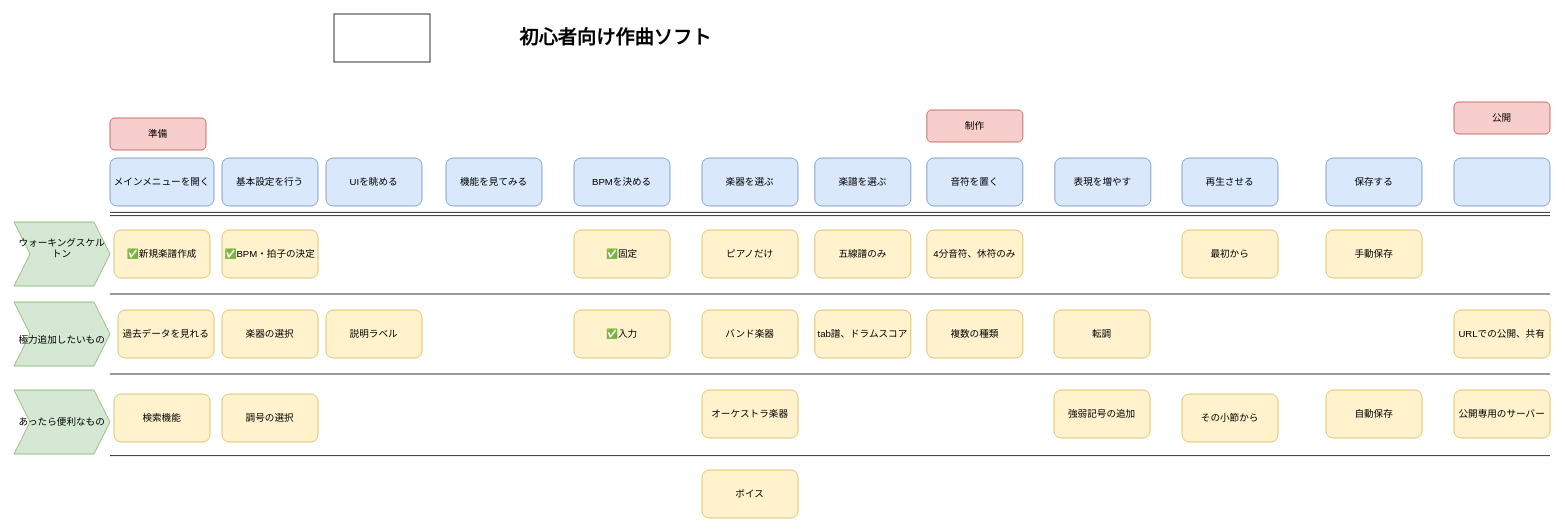
Some shapes in this 1565 by 532 pixel diagram are drawn without their labels. Here are the shapes that lost their labels. From the top down, the centre of each, then its label:
[381,37]: 初心者
[1501,181]: サイトに公開
